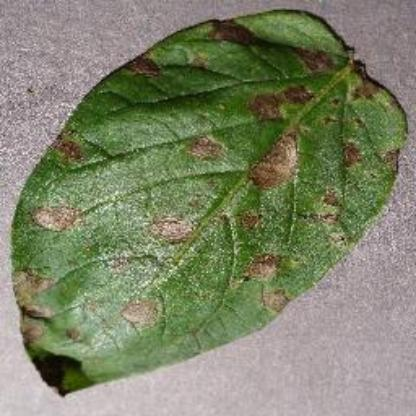Early-Blight: (8, 11, 412, 397)
